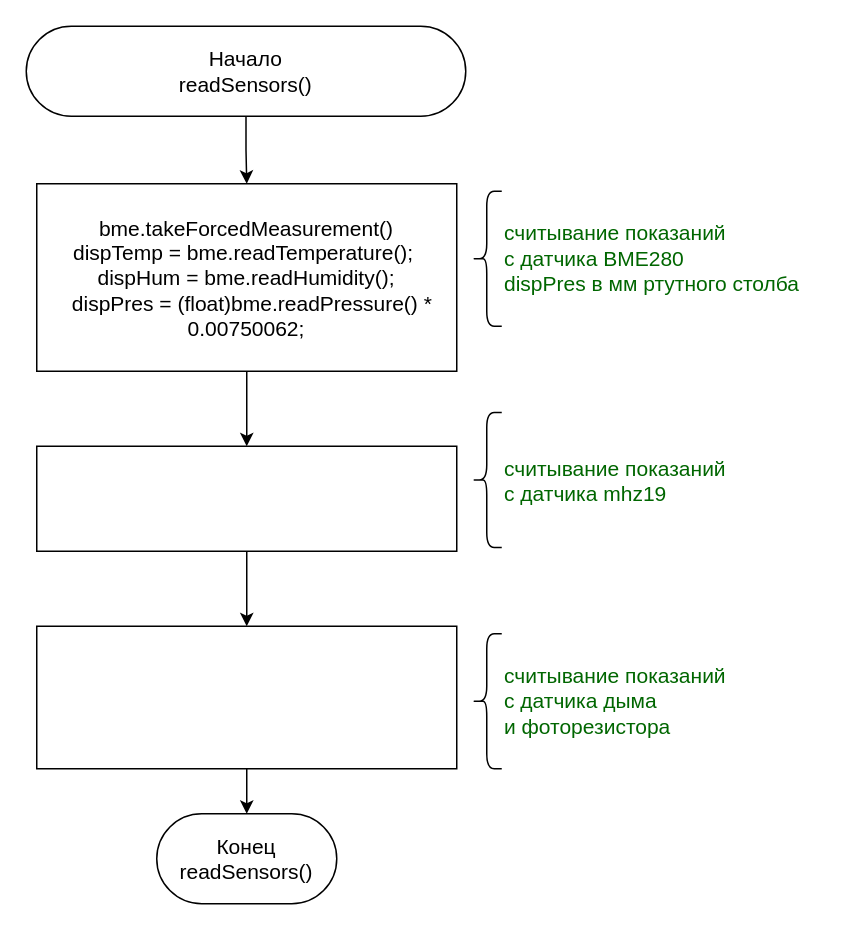
Some shapes in this 858 by 930 pixel diagram are drawn without their labels. The shapes that lost their labels are listed below. From the top down, each one's centre as x and y in pixels, then its label:
At [246,498]: "dispCO2 = mhz19.getPPM();".
At [246,697]: "dispSmoke = analogRead(SMOKE); dispPhoto= analogRead(PHOTO);".
